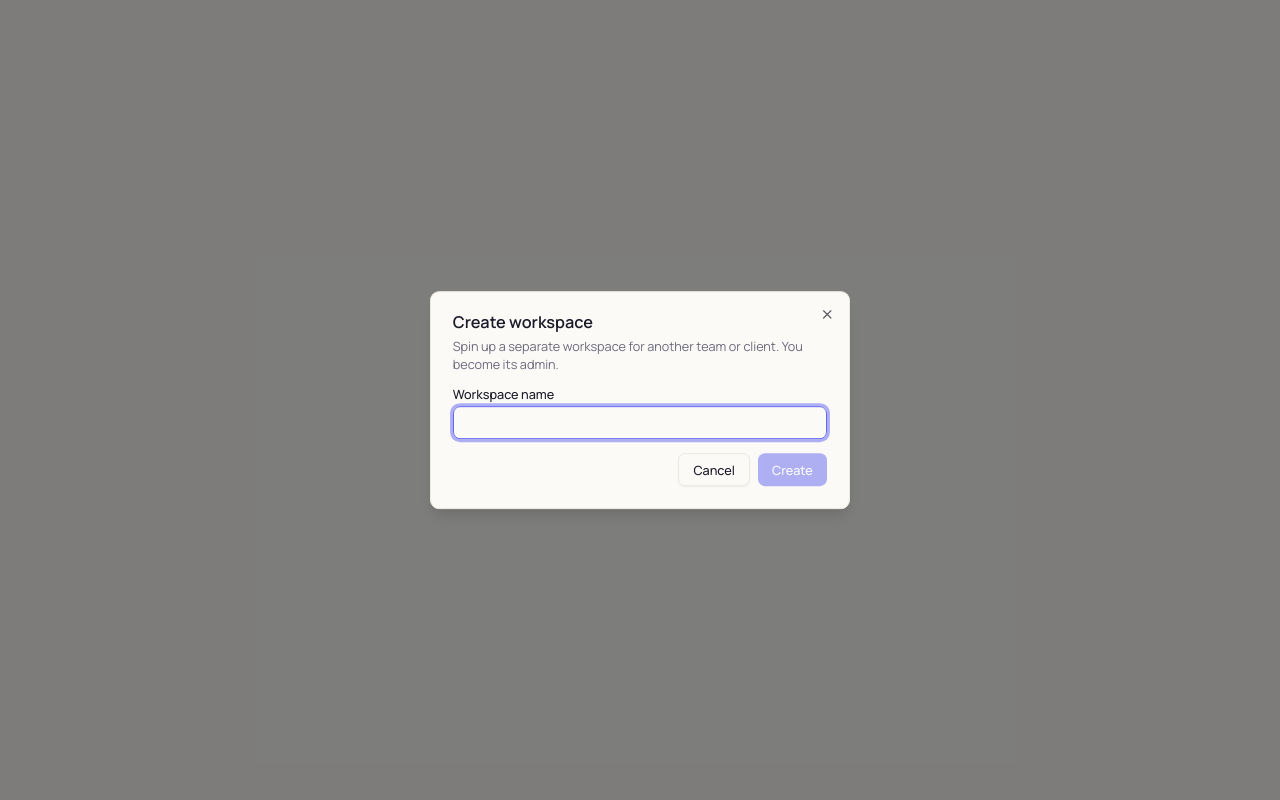
Test case: CreateWorkspaceDialog › clears a stale error when the dialog is reopened
This screenshot has width=1280, height=800.
Type "Beta" into the field with test id "workspace-name-input".
click(640, 423); type("Beta")  # box [453, 406, 827, 439]
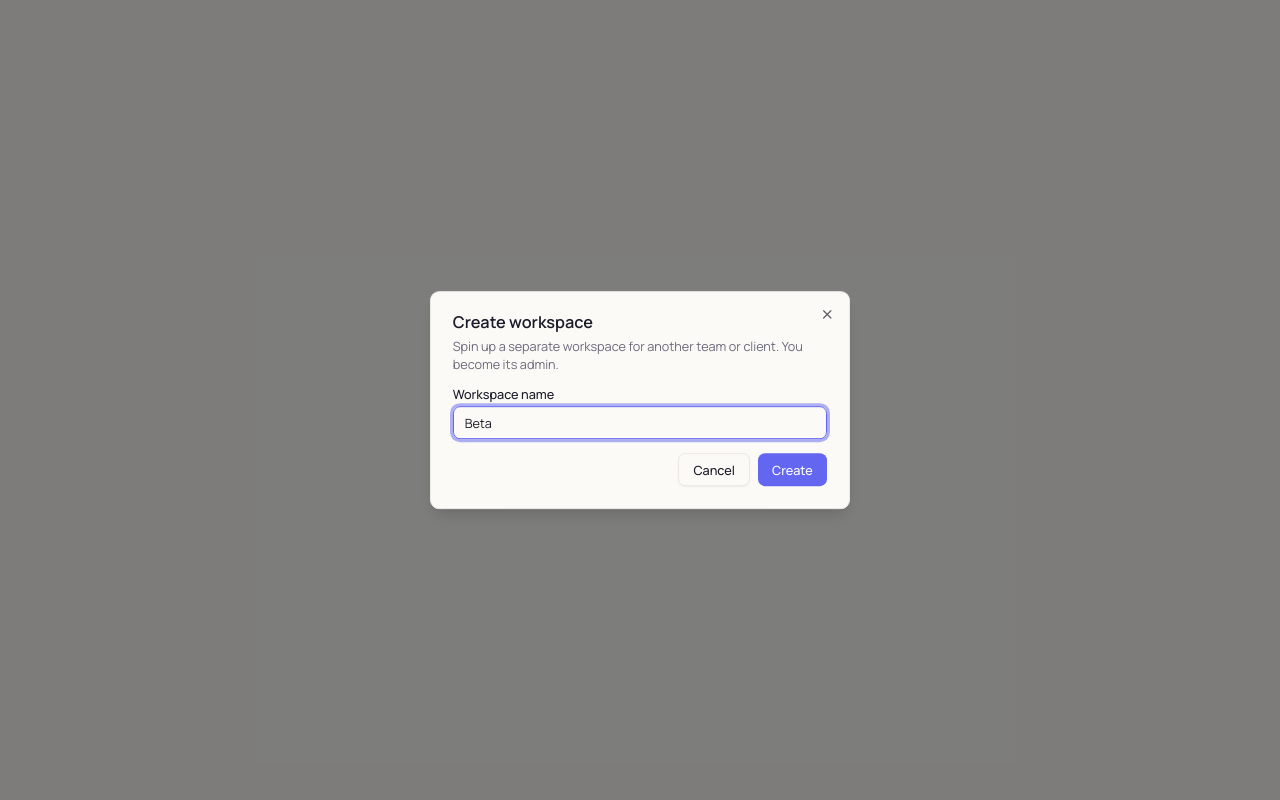
Submit the form with test id "create-workspace-form", box [453, 388, 827, 486]
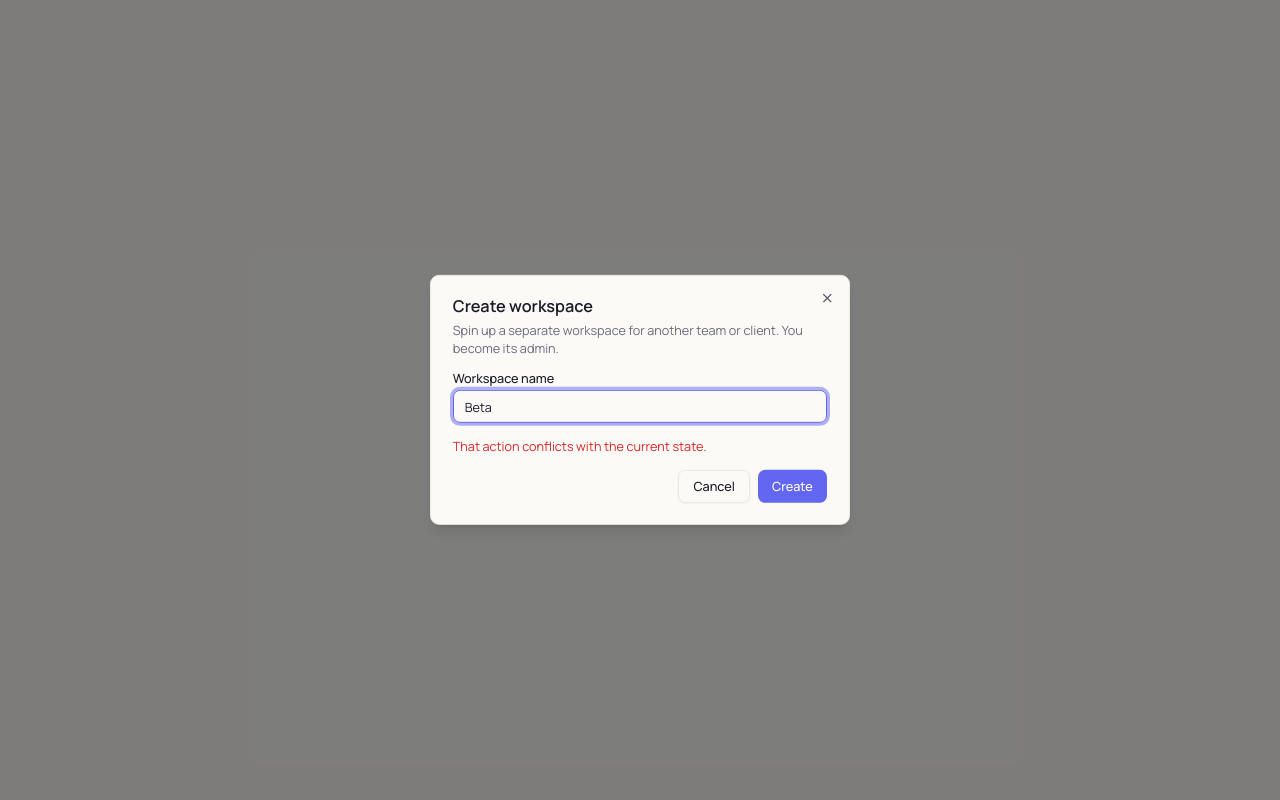
Expected: the message "That action conflicts with the current state." is shown, [453, 437, 706, 455]
